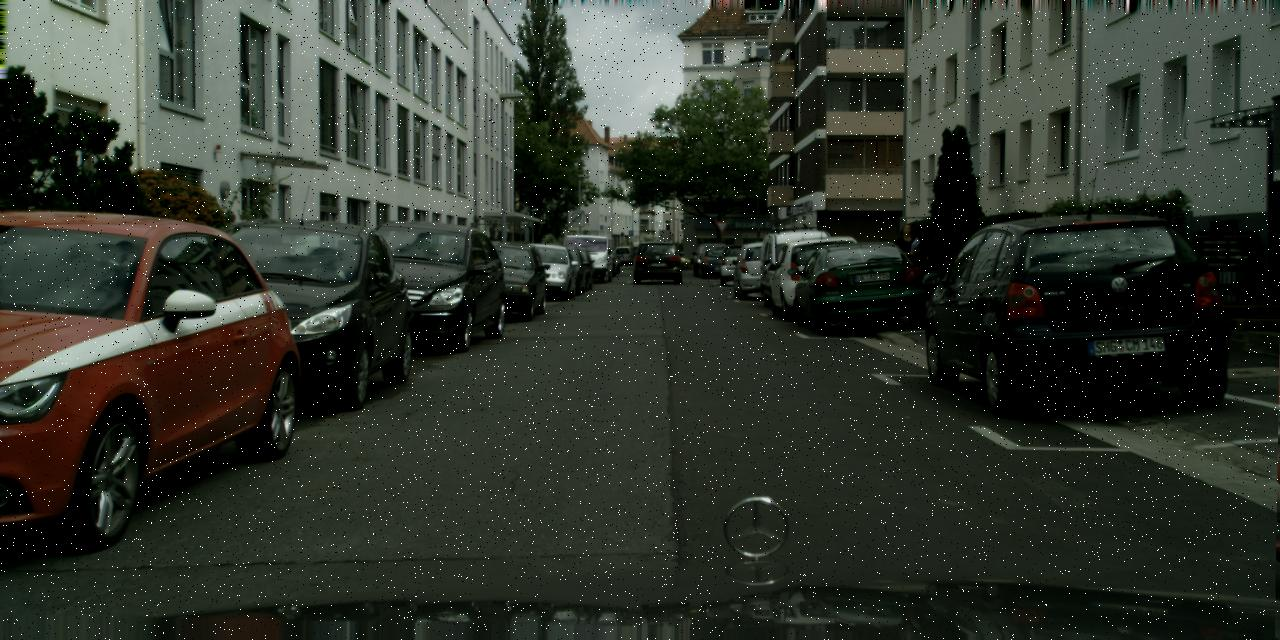ped: (891, 223, 921, 296)
